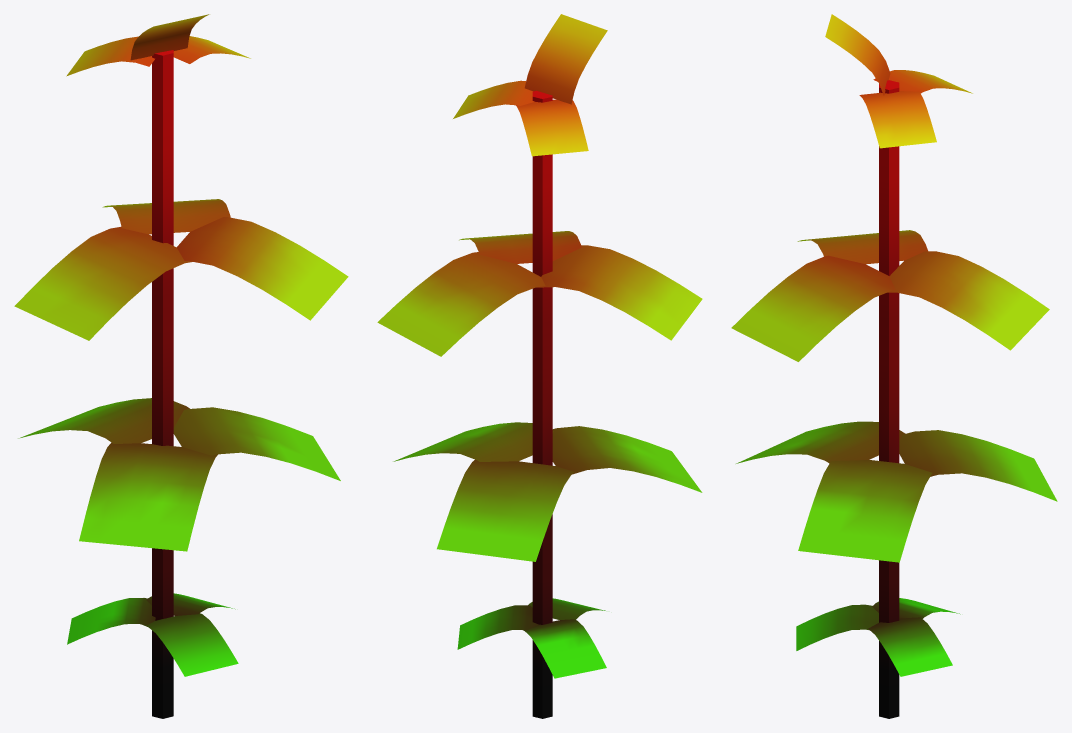
The model's file is grass_mergeRealRG.fbx.
3 views of the same model, side by side, from view 1: azimuth 30°, elevation 25°; view 2: azimuth 150°, elevation 25°; view 3: azimuth 270°, elevation 25° (orthographic). The views are drawn at different scales.
Parts seen in each view (by area): view 1: grass03, grass02, stem, grass01, grass04; view 2: grass02, grass03, stem, grass04, grass01; view 3: grass02, grass03, stem, grass04, grass01.
Part boxes in pixels (x1,y1,x2,y2): grass03: [14, 199, 348, 340]; grass02: [18, 398, 340, 551]; stem: [152, 50, 173, 718]; grass01: [67, 593, 238, 676]; grass04: [66, 14, 250, 76]; grass02: [393, 422, 702, 561]; grass03: [377, 231, 702, 356]; stem: [532, 90, 552, 718]; grass04: [453, 14, 607, 156]; grass01: [457, 598, 606, 678]; grass02: [736, 421, 1057, 562]; grass03: [731, 230, 1049, 361]; stem: [879, 80, 899, 718]; grass04: [825, 14, 972, 148]; grass01: [796, 598, 960, 676].
Size of the model in its own units: 27.67 by 63.78 by 27.63.
